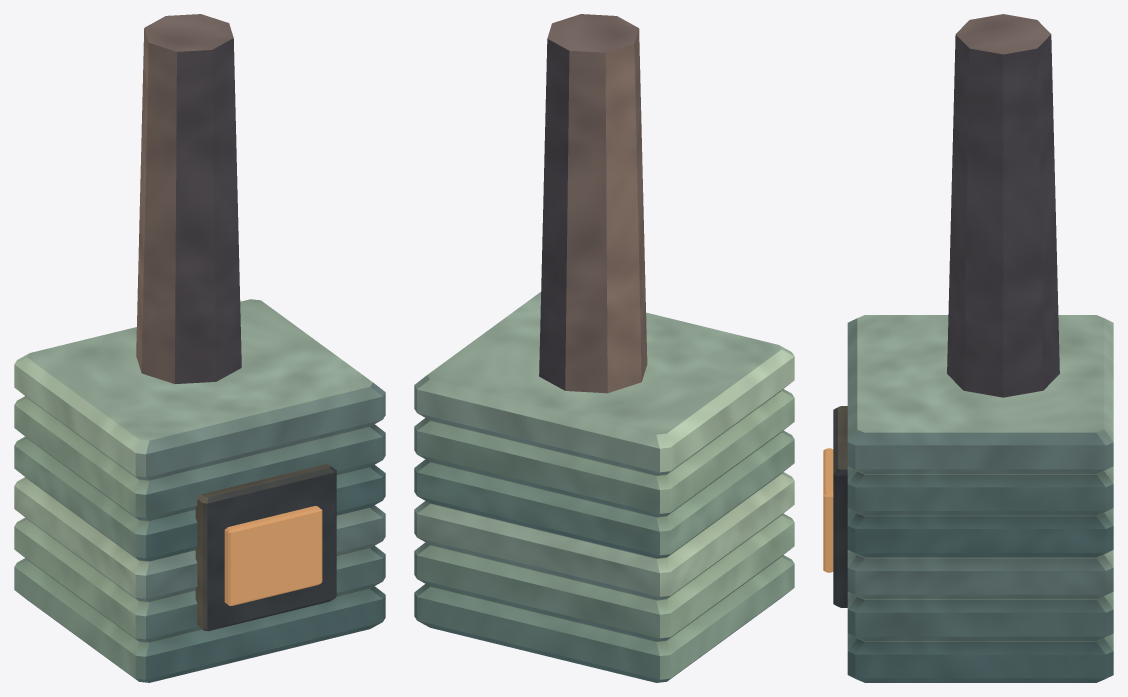
File: furniture_blue_stove.glb
3 views of the same model, side by side, from view 1: azimuth 30°, elevation 25°; view 2: azimuth 150°, elevation 25°; view 3: azimuth 270°, elevation 25° (orthographic). The views are drawn at different scales.
Visible parts, largest first — view 1: Blauer Kachelofen; view 2: Blauer Kachelofen; view 3: Blauer Kachelofen.
Part boxes in pixels (x1=…): Blauer Kachelofen: x1=14, y1=14, x2=385, y2=682; Blauer Kachelofen: x1=414, y1=14, x2=794, y2=682; Blauer Kachelofen: x1=823, y1=14, x2=1113, y2=682.
Size of the model in its own units: 0.84 by 1.83 by 0.819.
2 materials, 1 textured.
